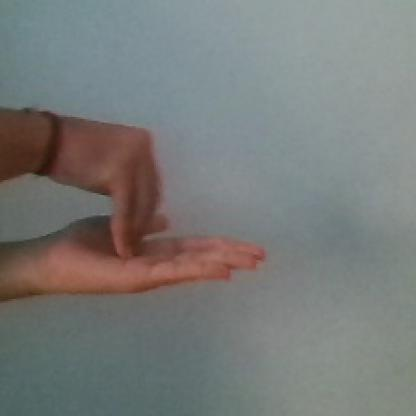Z: (41, 103, 273, 301)
